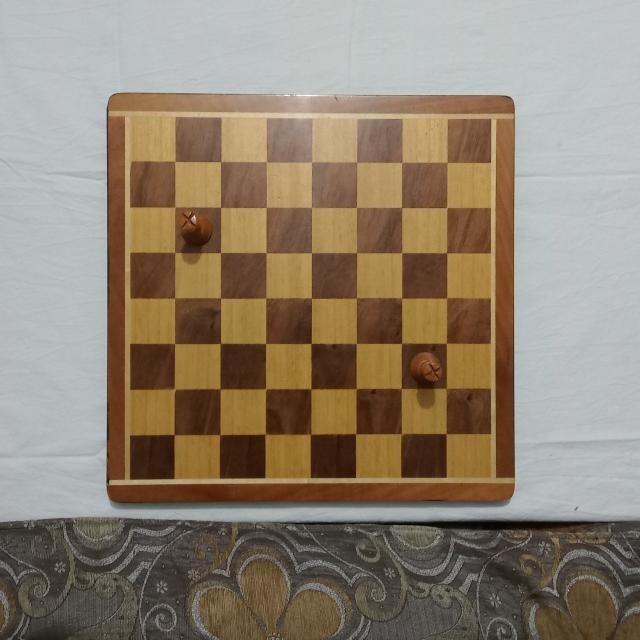white-rook: (179, 208, 213, 248), (406, 350, 443, 386)
